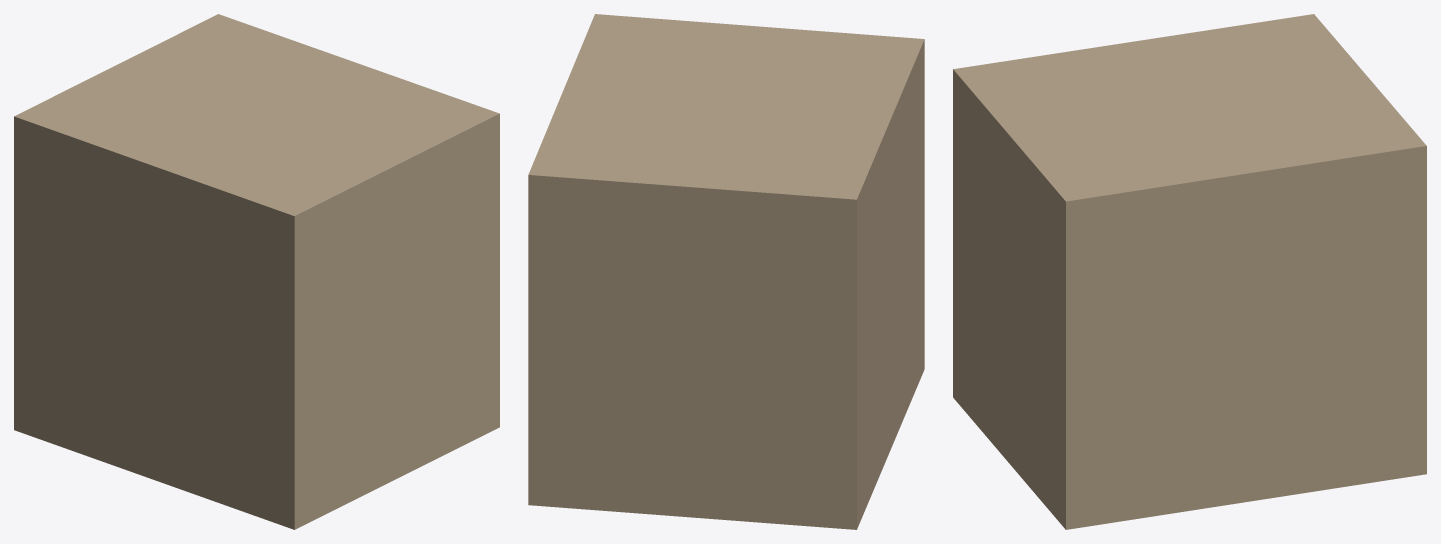
The model's file is bld_107639301.dae.
3 views of the same model, side by side, from view 1: azimuth 30°, elevation 25°; view 2: azimuth 150°, elevation 25°; view 3: azimuth 270°, elevation 25° (orthographic). The views are drawn at different scales.
Parts seen in each view (by area): view 1: bld_107639301; view 2: bld_107639301; view 3: bld_107639301.
Part boxes in pixels (box(x1,y1,x2,y2)): bld_107639301: box(14, 14, 499, 529); bld_107639301: box(528, 14, 924, 529); bld_107639301: box(953, 14, 1426, 529).
Size of the model in its own units: 9.8 by 10.46 by 8.
